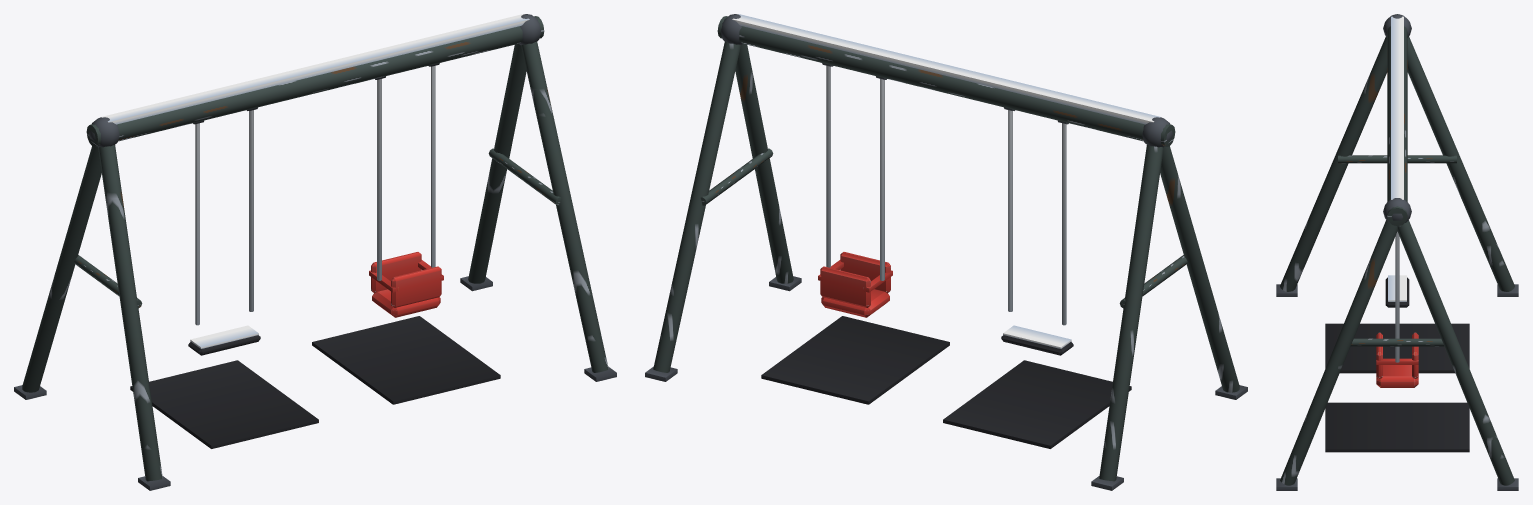
Rendered from ck_swing_set.fbx.
3 renders of one model, left to right at view 1: azimuth 30°, elevation 25°; view 2: azimuth 150°, elevation 25°; view 3: azimuth 270°, elevation 25°, orthographic. The views are drawn at different scales.
Visible parts, largest first — view 1: ck_swing_set; view 2: ck_swing_set; view 3: ck_swing_set.
Boxes of the visible parts, left/top/right/bottom form: ck_swing_set: left=14, top=14, right=616, bottom=490; ck_swing_set: left=645, top=14, right=1247, bottom=490; ck_swing_set: left=1276, top=14, right=1518, bottom=490.
Size of the model in its own units: 980 by 637 by 494.
